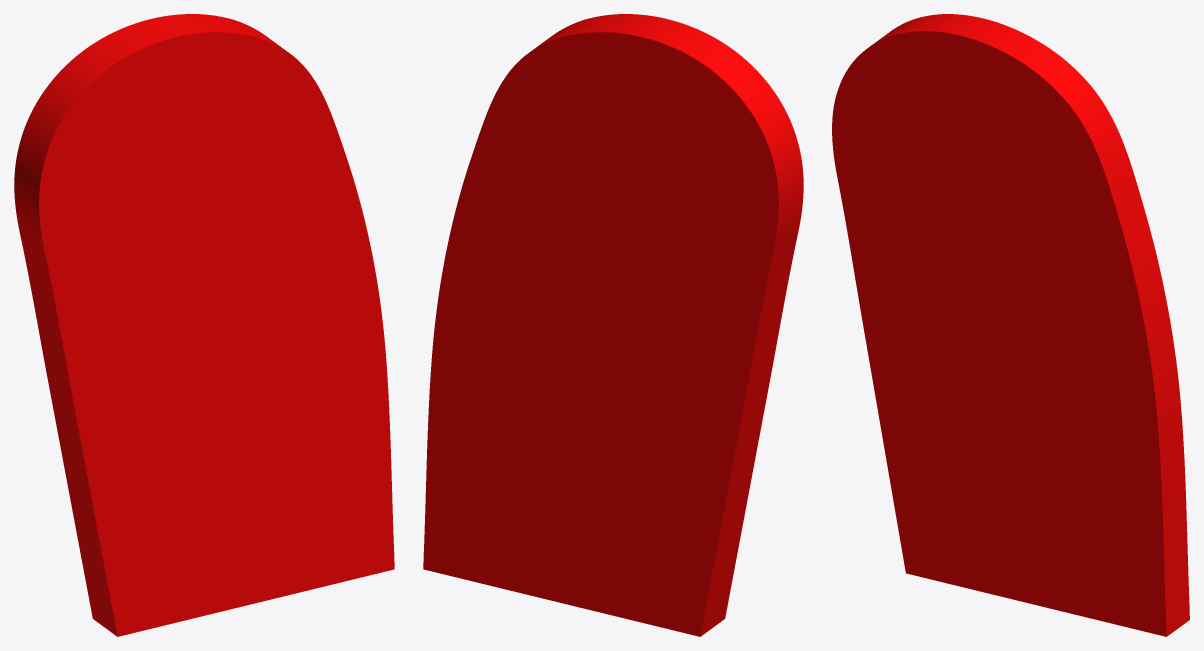
The model's file is Asset 2.obj.
3 renders of one model, left to right at view 1: azimuth 30°, elevation 25°; view 2: azimuth 150°, elevation 25°; view 3: azimuth 330°, elevation 25°, orthographic. The views are drawn at different scales.
Parts seen in each view (by area): view 1: groupNumber_0; view 2: groupNumber_0; view 3: groupNumber_0.
Boxes of the visible parts, x1,y1,x2,y2 form: groupNumber_0: (14,14,394,636); groupNumber_0: (423,14,803,636); groupNumber_0: (832,14,1189,636).
Bounding box in the file's own units: 14.61 × 22.99 × 1.76.
